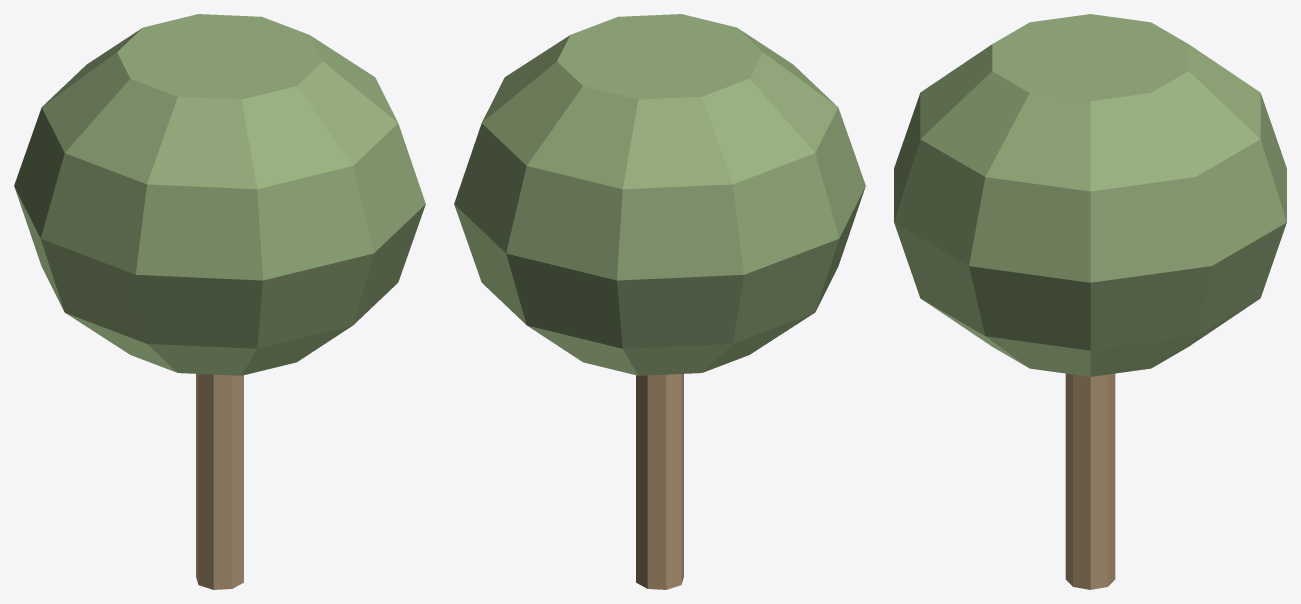
The model's file is oak-arch-15.glb.
3 renders of one model, left to right at view 1: azimuth 30°, elevation 25°; view 2: azimuth 150°, elevation 25°; view 3: azimuth 270°, elevation 25°, orthographic.
Visible parts, largest first — view 1: living roof, timber; view 2: living roof, timber; view 3: living roof, timber.
Boxes of the visible parts, x1,y1,x2,y2 form: living roof: (14,14,425,375); timber: (196,374,243,589); living roof: (454,14,865,375); timber: (636,374,683,589); living roof: (894,14,1286,376); timber: (1065,373,1115,589).
Size of the model in its own units: 14.87 by 21.57 by 14.14.
